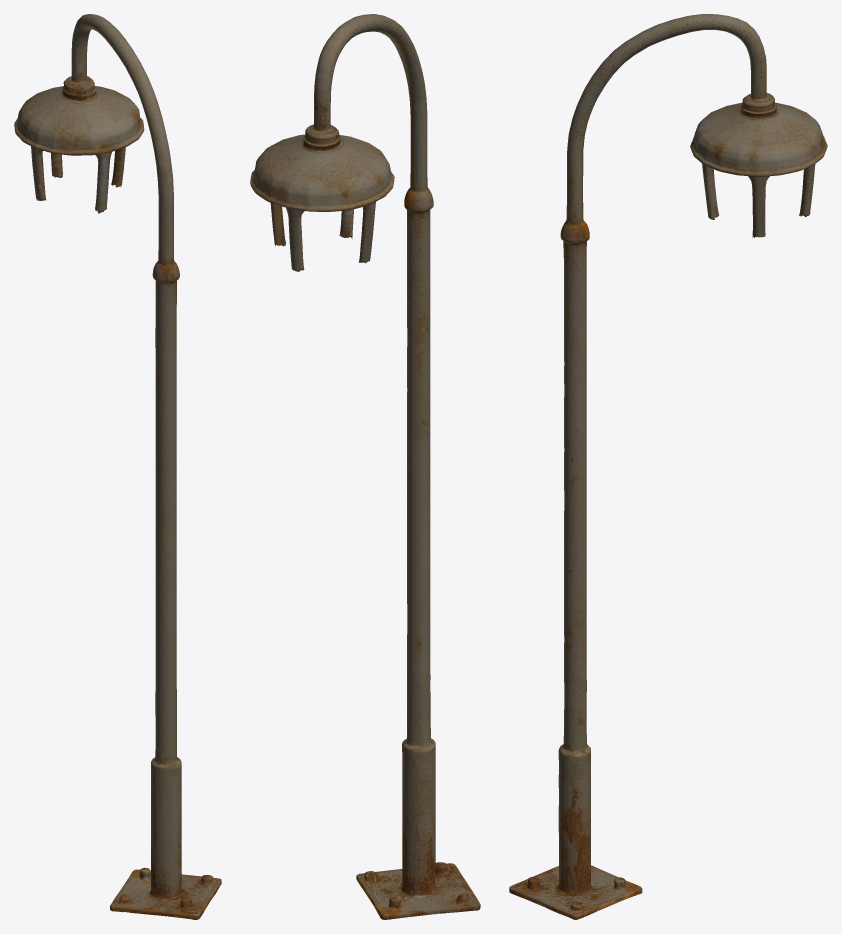
Rendered from tripo_convert_245317bc-98db-408b-9303-bf5041a0ce0f.obj.
3 renders of one model, left to right at view 1: azimuth 30°, elevation 25°; view 2: azimuth 150°, elevation 25°; view 3: azimuth 270°, elevation 25°, orthographic. The views are drawn at different scales.
Visible parts, largest first — view 1: tripo_node_245317bc-98db-408b-9303-bf5041a0ce0f; view 2: tripo_node_245317bc-98db-408b-9303-bf5041a0ce0f; view 3: tripo_node_245317bc-98db-408b-9303-bf5041a0ce0f.
Part boxes in pixels (x1=…): tripo_node_245317bc-98db-408b-9303-bf5041a0ce0f: x1=14, y1=14, x2=221, y2=919; tripo_node_245317bc-98db-408b-9303-bf5041a0ce0f: x1=250, y1=14, x2=480, y2=919; tripo_node_245317bc-98db-408b-9303-bf5041a0ce0f: x1=509, y1=14, x2=827, y2=919.
Size of the model in its own units: 0.5238 by 3.69 by 1.21.
Materials: 1 (1 with a texture image).
